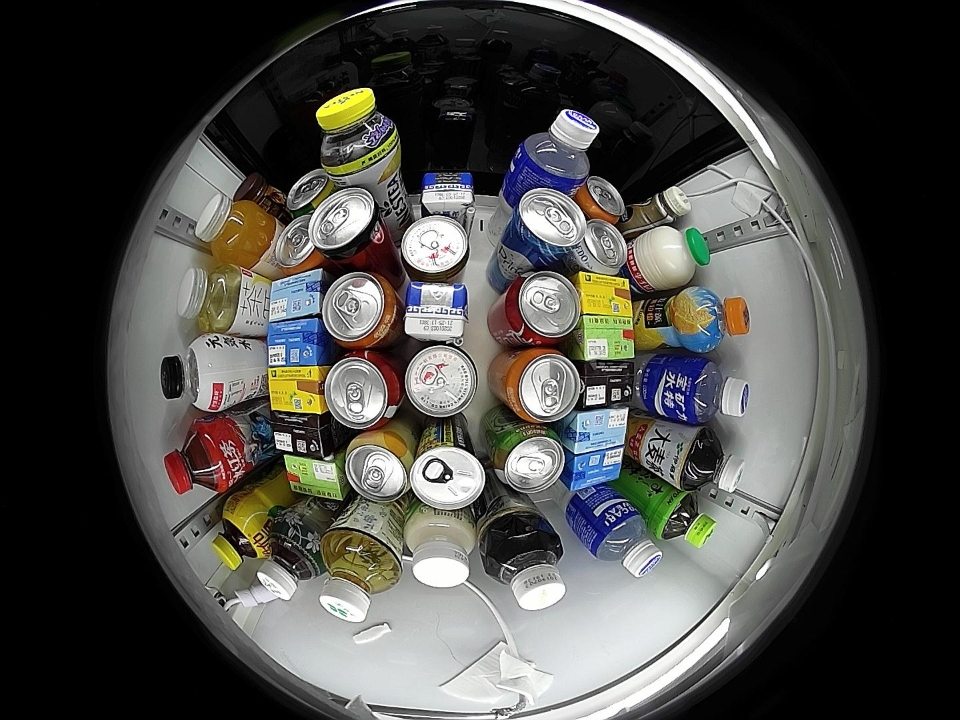anmuxi: (403, 281, 469, 343), (420, 171, 476, 217)
baicha: (319, 532, 402, 625)
baokuangli: (512, 108, 599, 190), (587, 505, 662, 578), (678, 356, 751, 425)
binghongcha: (164, 422, 231, 495)
chacui: (317, 86, 400, 177)
chapai2: (177, 265, 246, 333)
damaicha: (679, 428, 746, 494)
fenda: (321, 271, 398, 349), (506, 348, 581, 423), (273, 216, 322, 273), (576, 176, 626, 222)
guolicheng: (678, 288, 751, 353)
hongniu2: (403, 344, 479, 419), (400, 215, 470, 281)
kafei: (632, 185, 692, 231)
kele: (324, 351, 401, 429), (504, 270, 581, 345)
lingdukele: (310, 186, 387, 264)
liziyuan: (633, 226, 711, 292)
lujikafei: (230, 172, 281, 214)
mangguoxiaolao: (344, 432, 413, 502)
moliqingcha: (257, 527, 323, 601)
qingdaowangzi-2: (511, 187, 587, 262)
quchenshixiangcao: (492, 425, 566, 494)
rusuanjunqishui: (573, 219, 627, 274)
wanglaoji: (282, 454, 347, 503), (577, 315, 635, 361)
weic: (194, 195, 273, 267)
weitanai: (266, 318, 326, 366), (565, 447, 625, 494)
weitanai2: (271, 413, 336, 459), (578, 360, 635, 408)
weitanaiditang: (266, 269, 325, 323), (564, 407, 630, 455)
weitaningmeng: (267, 365, 327, 415), (576, 271, 632, 317)
weitaningmeng-bottle: (211, 500, 271, 571)
weiweidounai: (404, 510, 477, 588)
wulongcha: (484, 527, 566, 611)
xuebi2: (286, 169, 336, 216)
yezhi: (410, 436, 487, 510)
yitengyuan: (654, 490, 717, 549)
yuanqishui: (160, 335, 231, 411)
